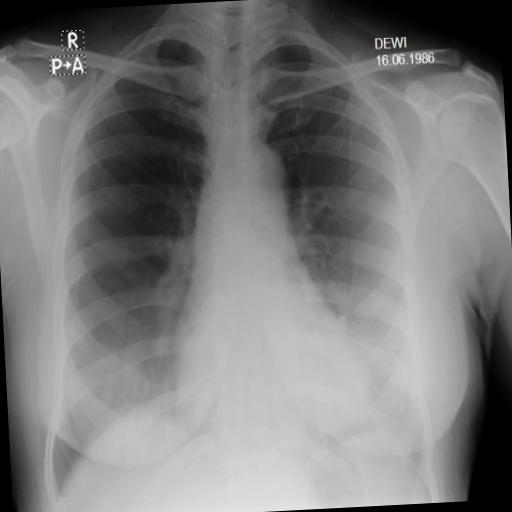normal: (17, 23, 442, 512)
